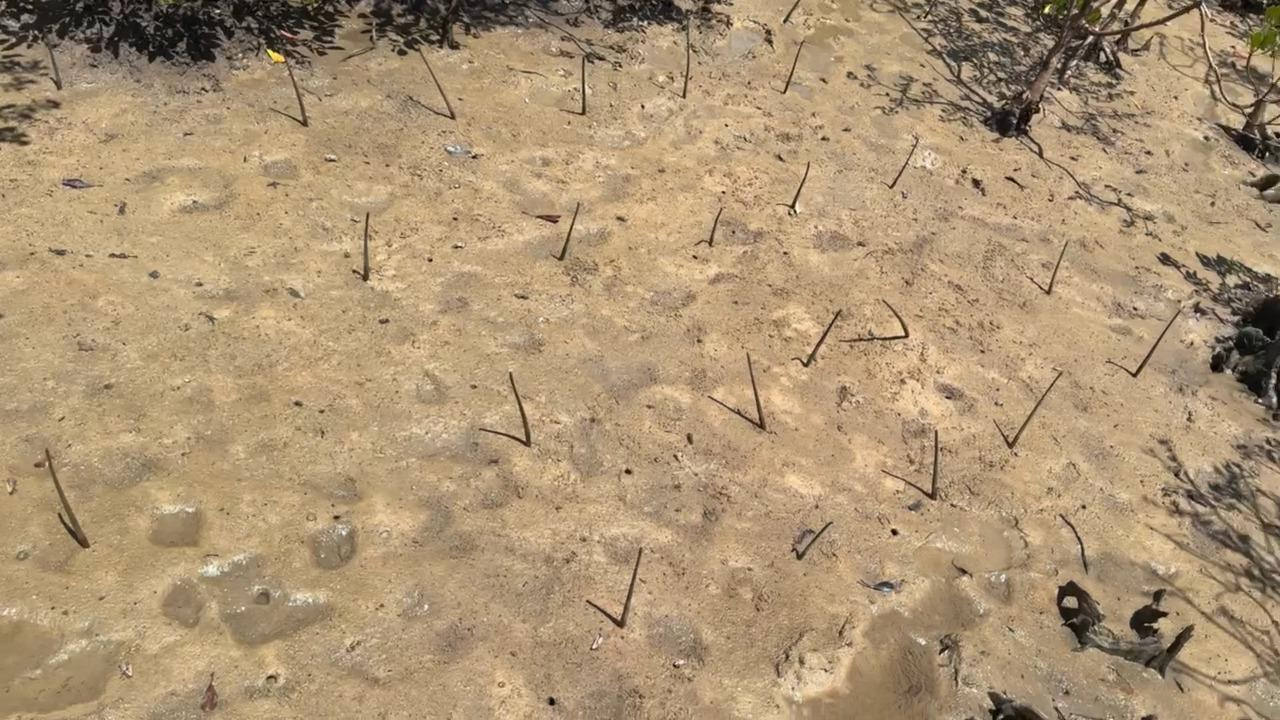Tree: (44, 449, 91, 549), (1009, 372, 1062, 449), (1134, 310, 1183, 377), (417, 47, 457, 118), (805, 309, 843, 366), (283, 49, 310, 128), (620, 547, 643, 629), (509, 372, 532, 448), (747, 353, 767, 430), (799, 521, 834, 561), (890, 140, 917, 187), (560, 201, 581, 259), (1048, 242, 1069, 295), (882, 300, 910, 337), (783, 42, 802, 94), (44, 33, 61, 90), (791, 162, 810, 209), (683, 21, 691, 99), (363, 212, 371, 281), (708, 209, 722, 246), (932, 430, 939, 499), (783, 0, 801, 21), (581, 55, 586, 115), (925, 0, 938, 17)
